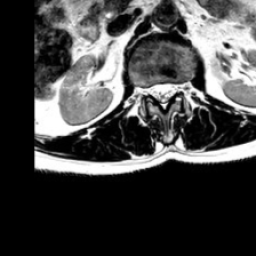CCS_normal: (158, 75, 168, 116)
LFS_normal: (176, 71, 184, 103)
LLS_normal: (168, 72, 176, 107)
RFS_normal: (140, 75, 148, 105)
RLS_normal: (148, 73, 158, 107)
